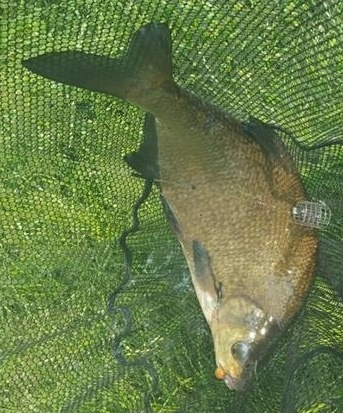Abramis brama: (20, 20, 323, 393)
